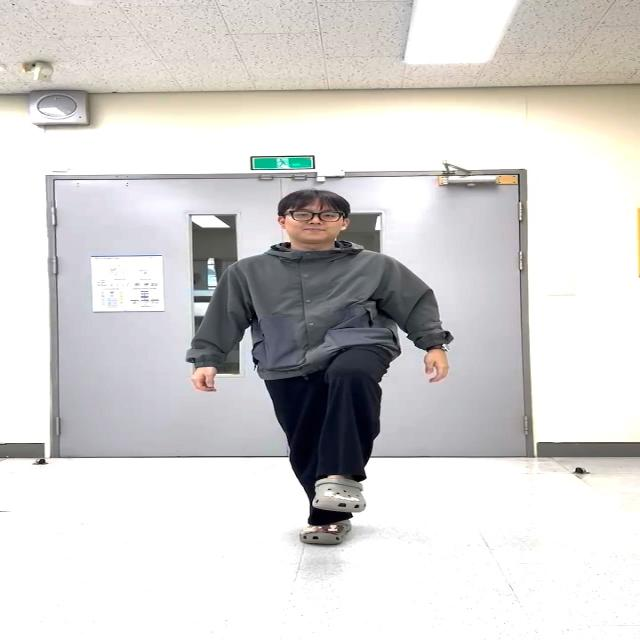leg: (298, 330, 406, 517)
